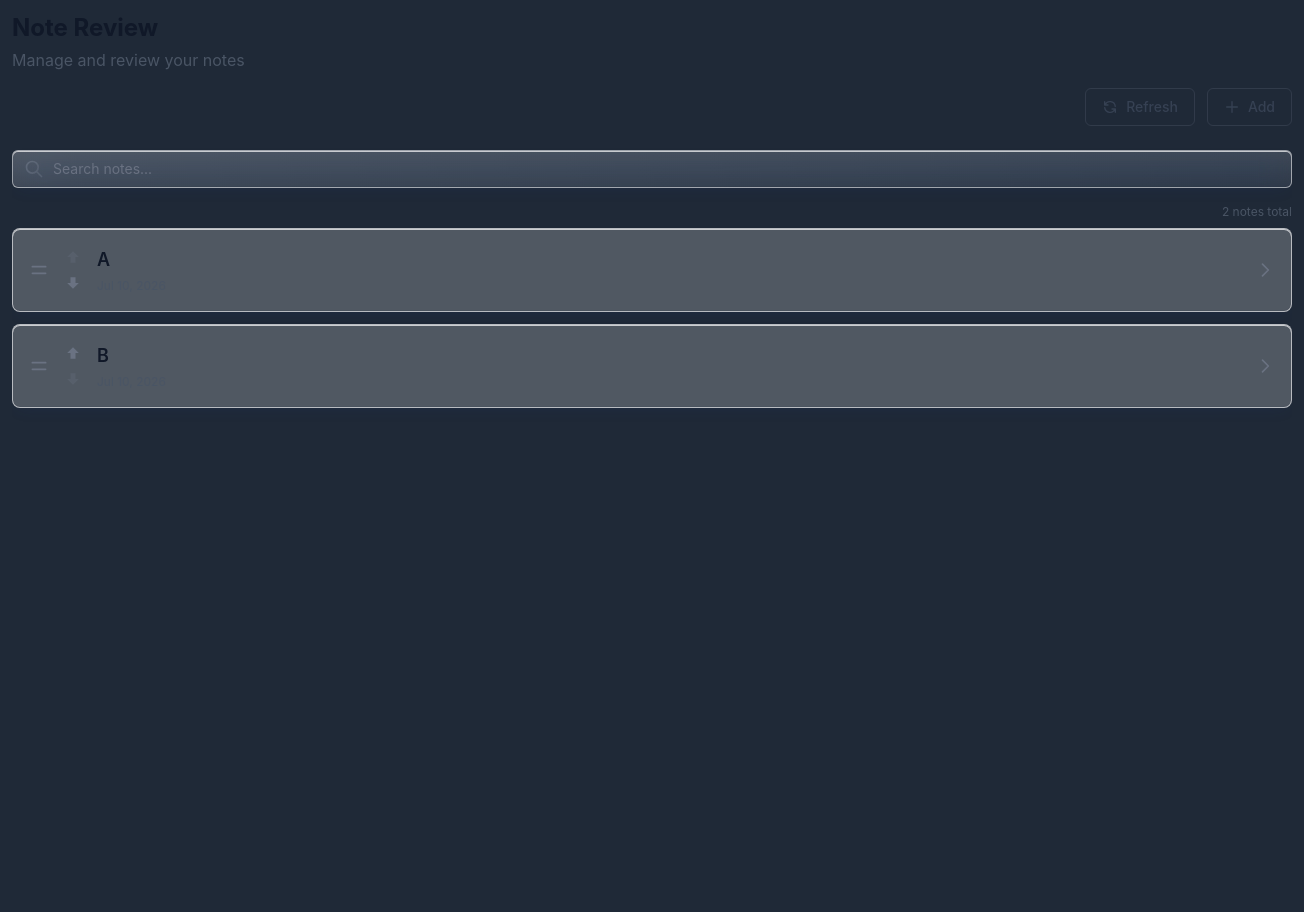
NotesTab › rolls back the order and shows an error toast on failure
Click the 1st button named "Move down" at (73, 283), box [61, 271, 85, 295]
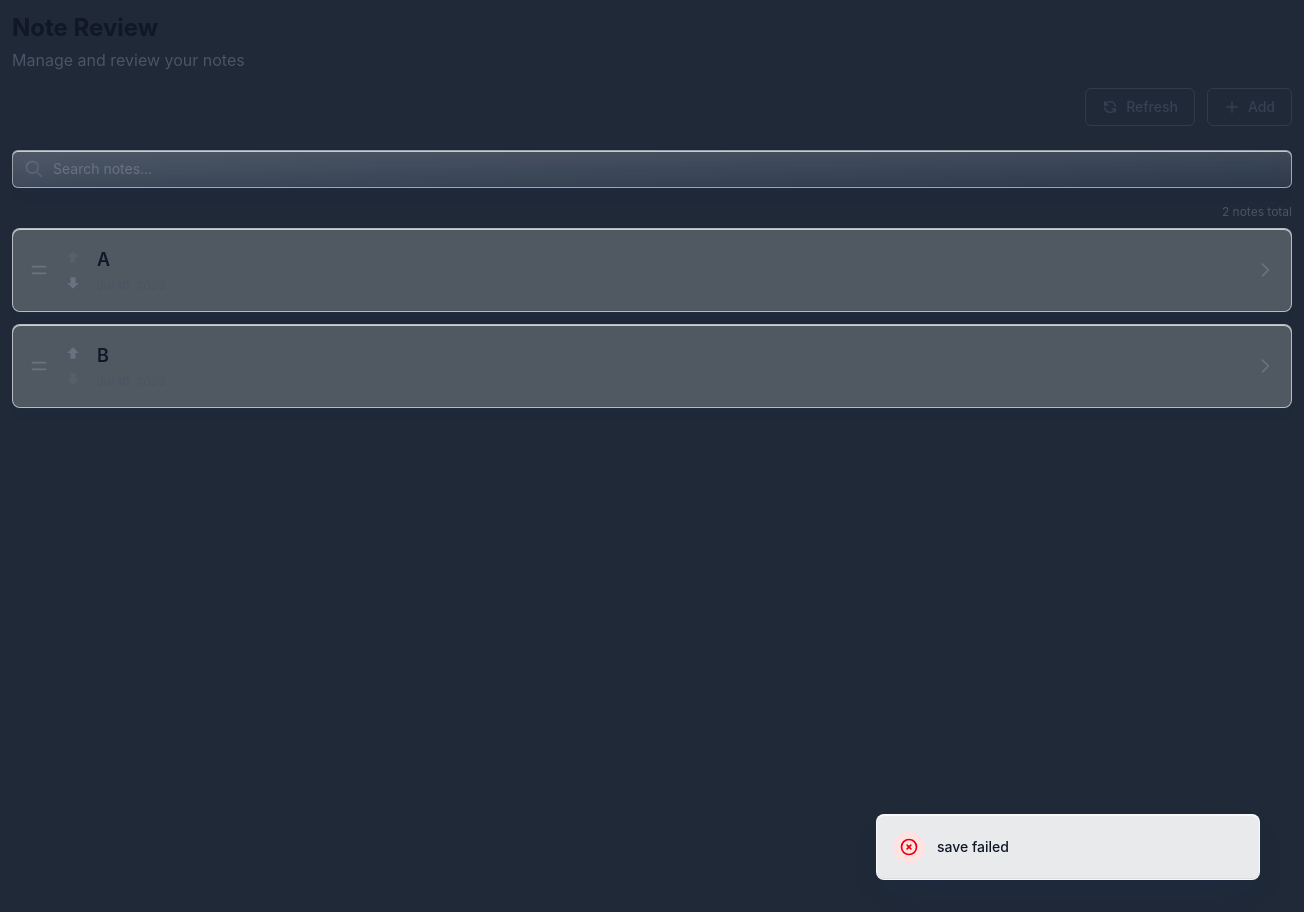
Now the text "save failed" is shown, box [937, 837, 1009, 857]
